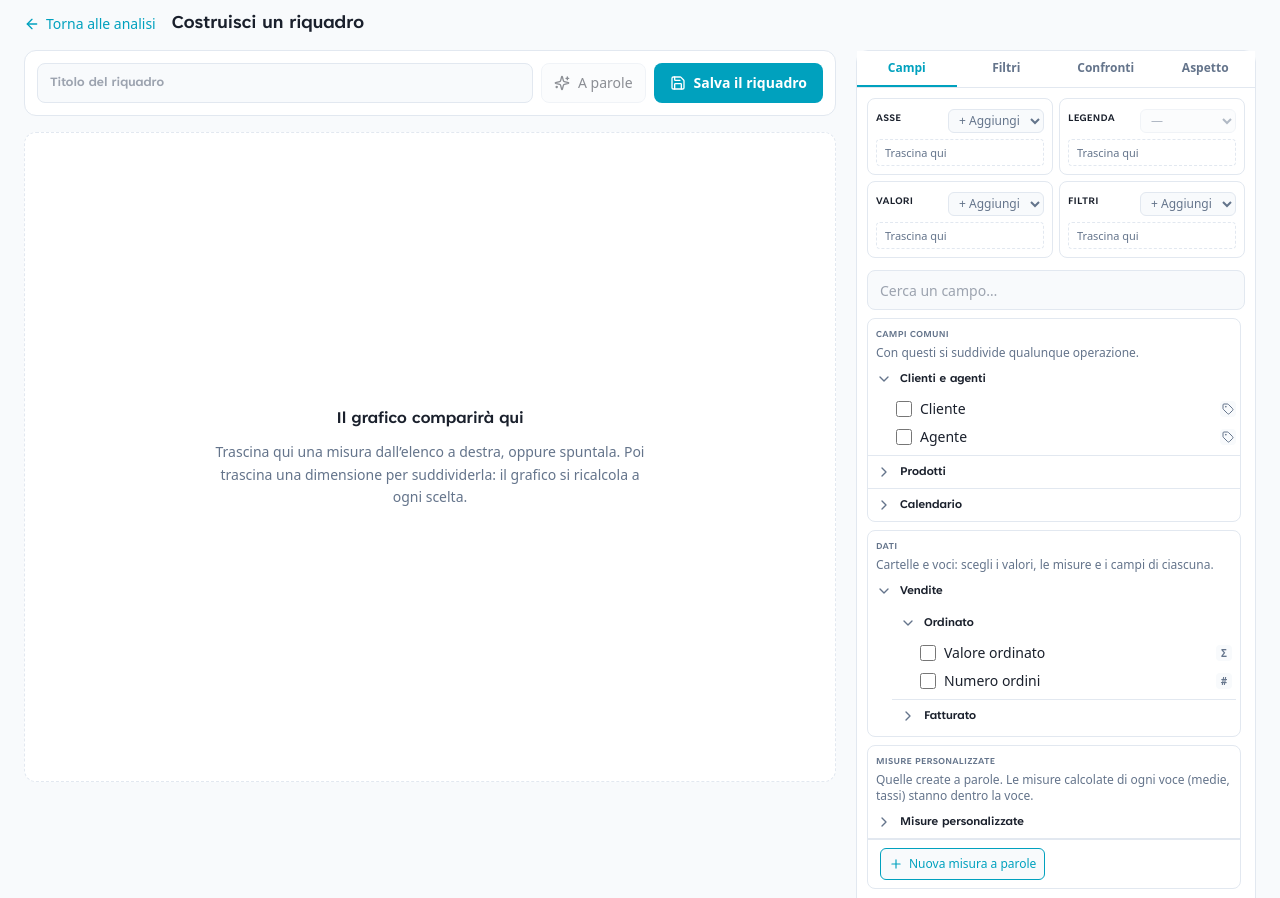
Test: albero dei campi con le misure › le misure del catalogo compaiono in un gruppo a parte, con la definizione in parole
The width and height of the screenshot is (1280, 898).
Click the button "Misure personalizzate" at (962, 822), box [868, 806, 1240, 838]
(page scrolled)
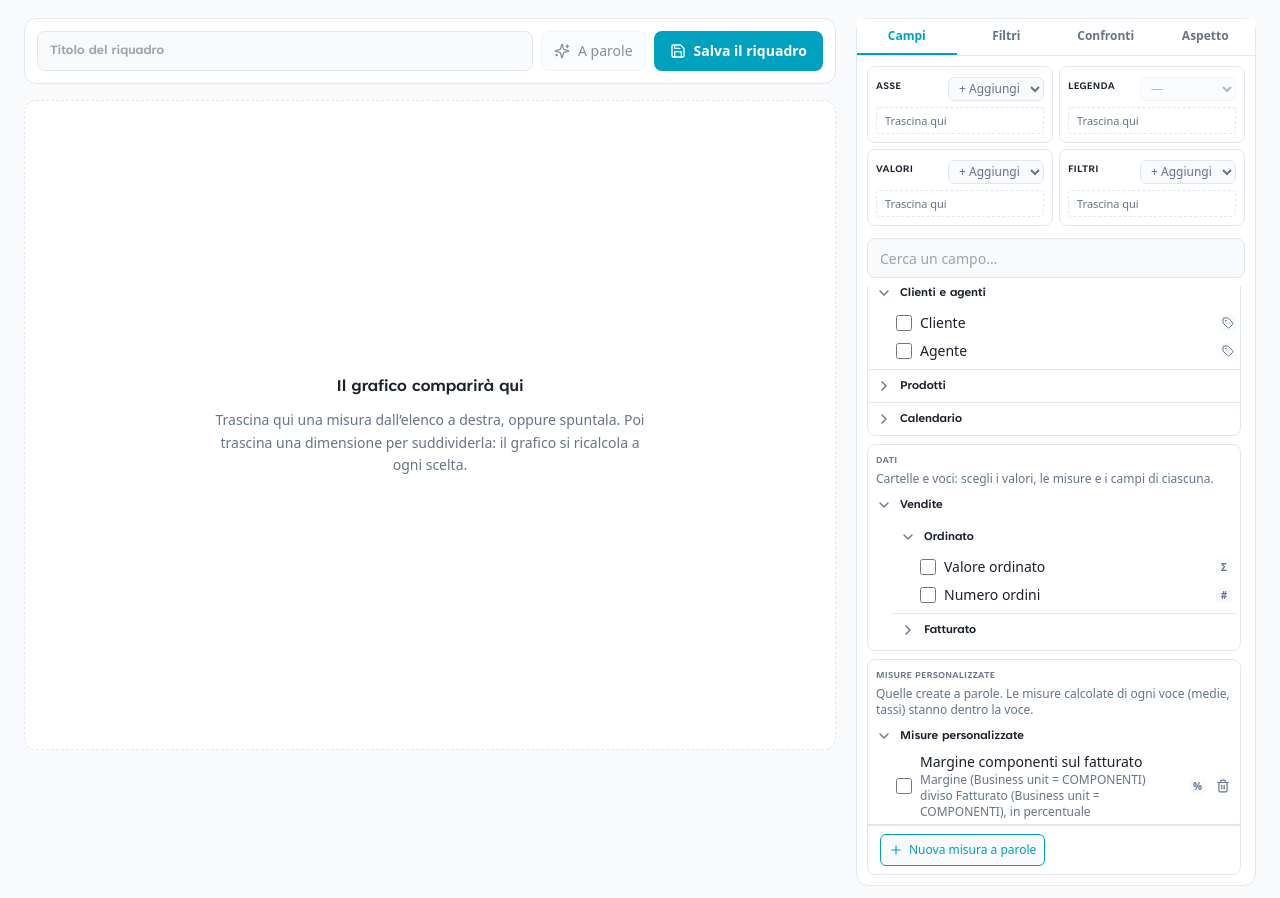
expect the checkbox labelled "Margine componenti sul fatturato" is not checked: met, box [896, 778, 912, 794]
expect the text "diviso Fatturato (Business unit = COMPONENTI), in percentuale" is shown: met, box [920, 771, 1146, 820]
